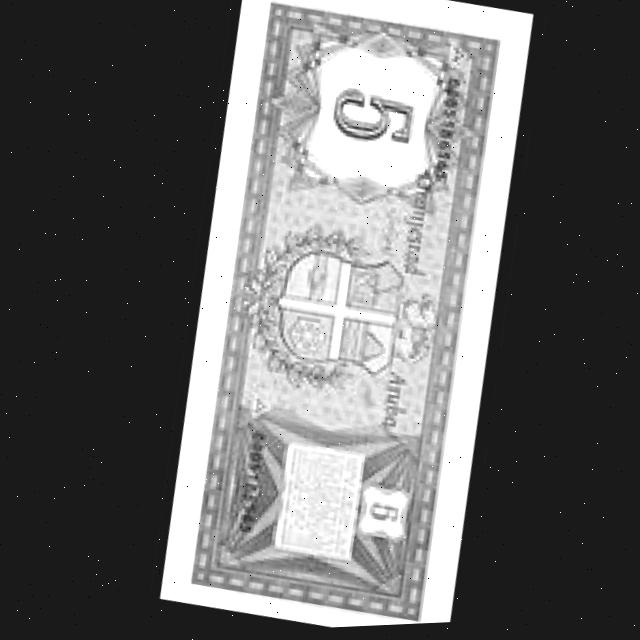banknote: (134, 0, 566, 635)
